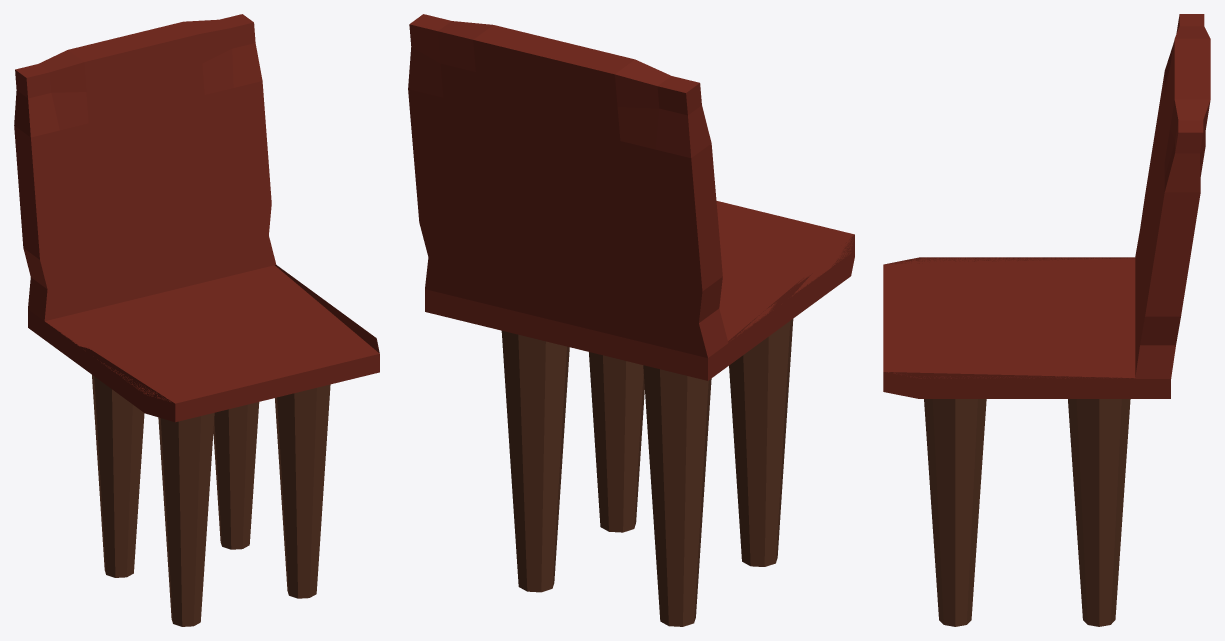
File: Chair.fbx
3 renders of one model, left to right at view 1: azimuth 30°, elevation 25°; view 2: azimuth 150°, elevation 25°; view 3: azimuth 270°, elevation 25°, orthographic. The views are drawn at different scales.
Visible parts, largest first — view 1: Chair; view 2: Chair; view 3: Chair.
Boxes of the visible parts, bbox=[...] form: Chair: bbox=[14, 14, 379, 626]; Chair: bbox=[408, 14, 854, 626]; Chair: bbox=[883, 14, 1210, 626].
Bounding box in the file's own units: 251 × 502 × 286.
